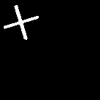single_crochet: (4, 5, 37, 39)
